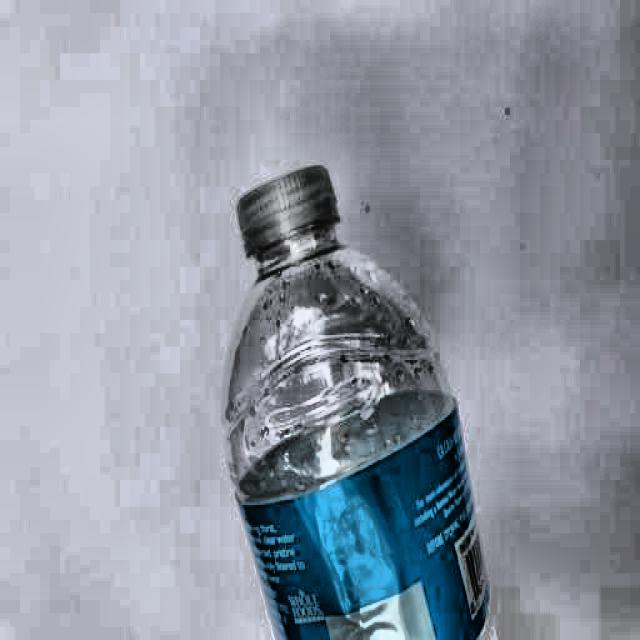plastic: (215, 165, 495, 640)
